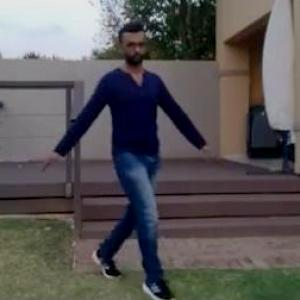land: (45, 27, 200, 281)
